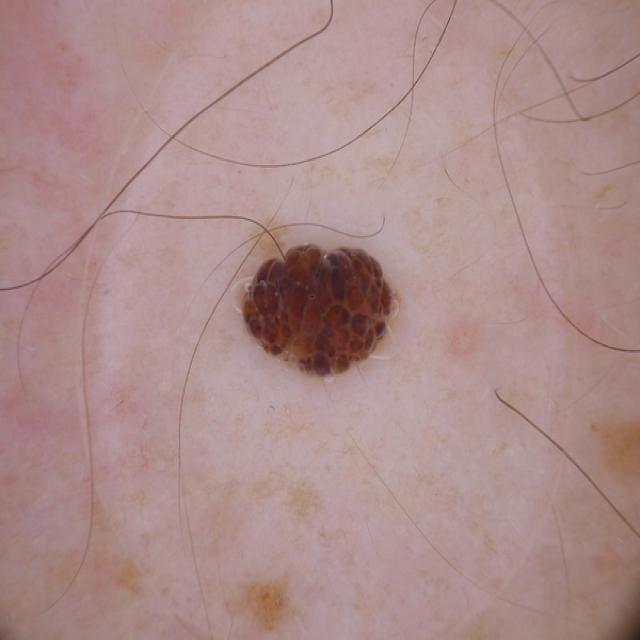NV: (237, 240, 398, 377)
